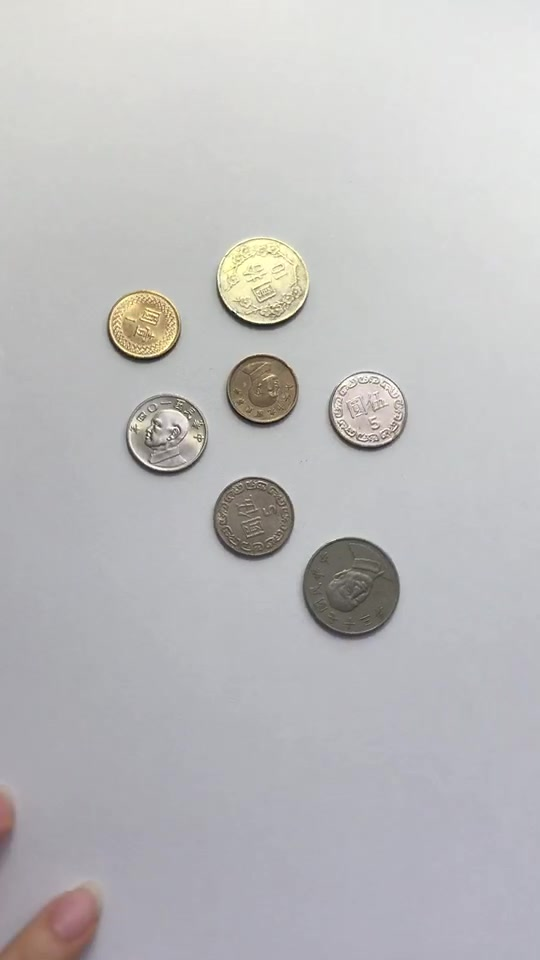1 dallar: (95, 286, 189, 368), (213, 348, 307, 430)
10 dallar: (295, 532, 409, 645), (206, 230, 322, 336)
5 dallar: (118, 386, 216, 481), (206, 468, 304, 563), (316, 365, 414, 460)
